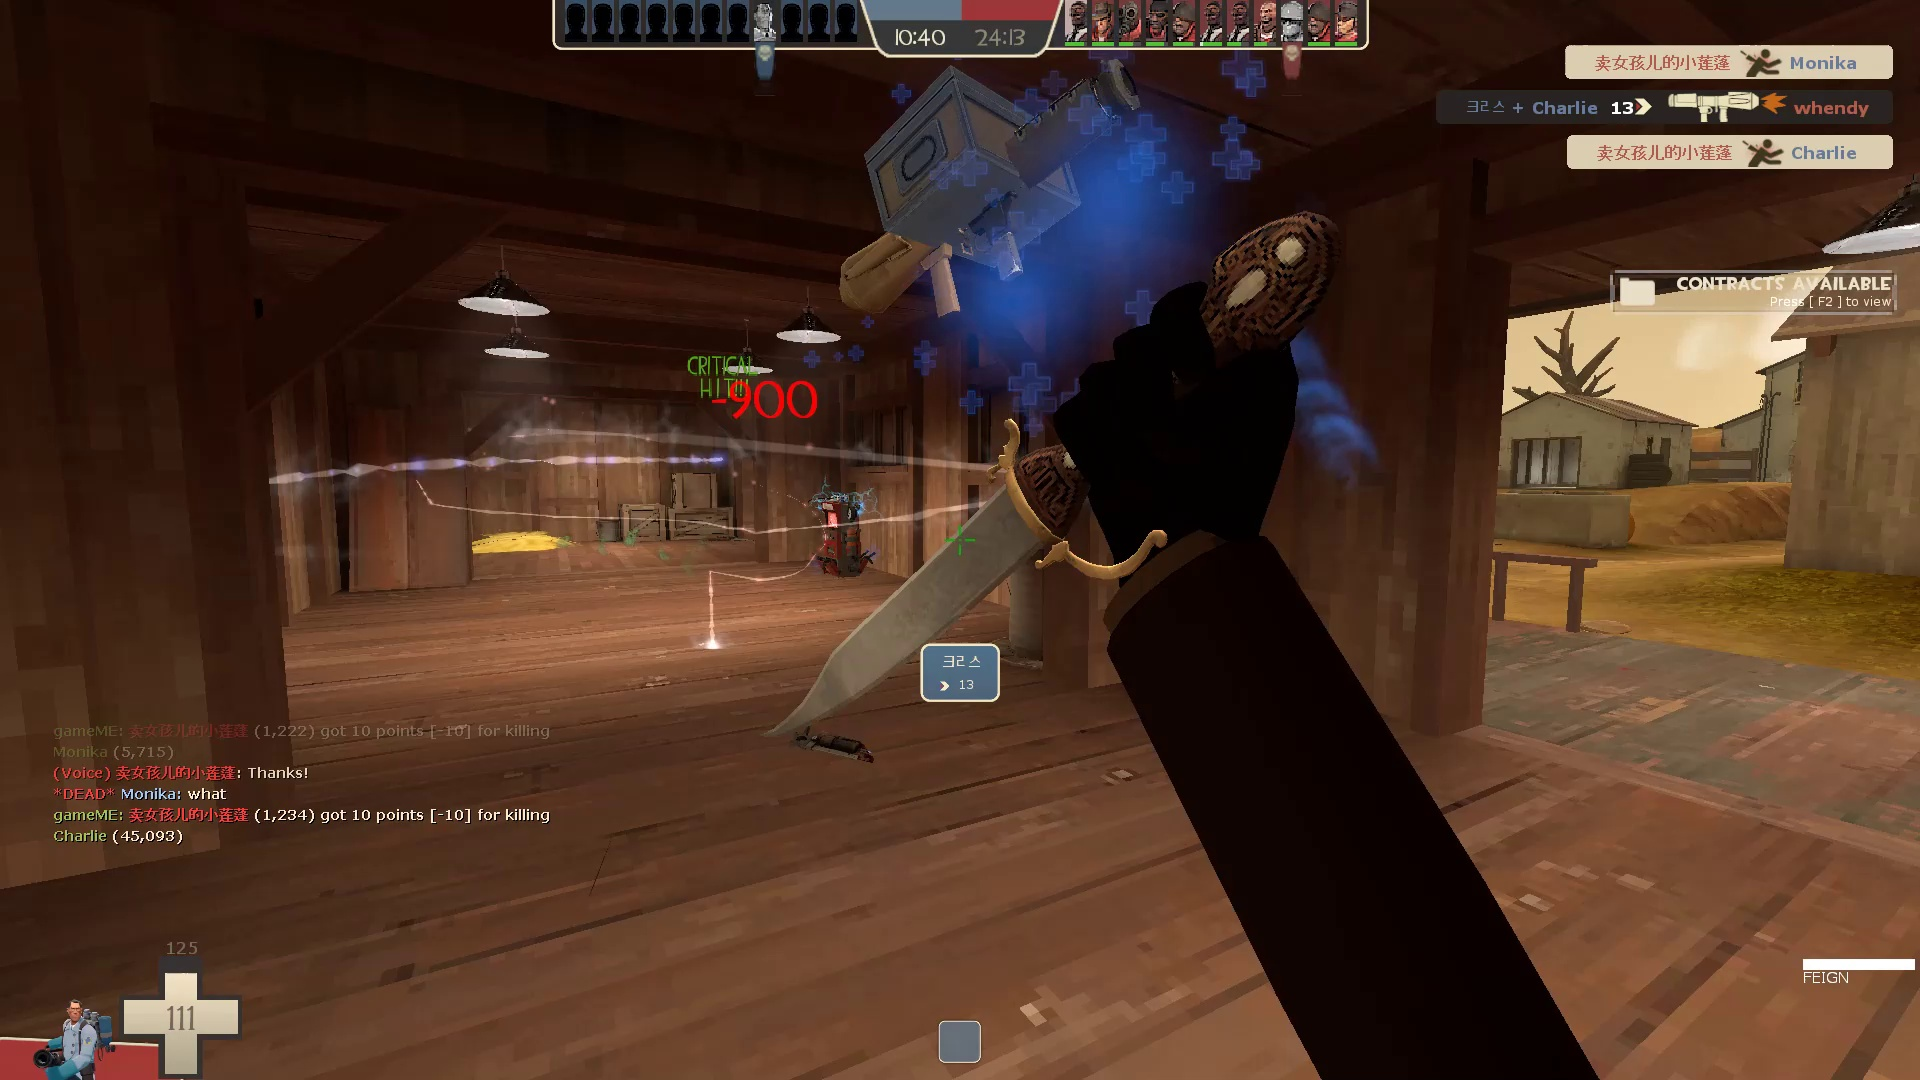red_dispenser: (800, 491, 876, 576)
